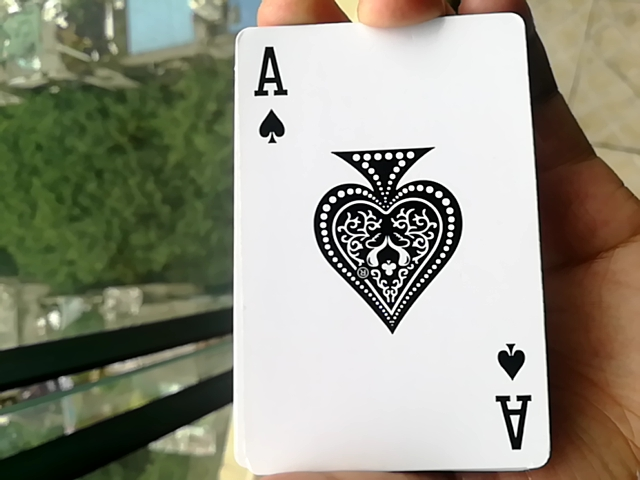ht a: (219, 33, 556, 476)
